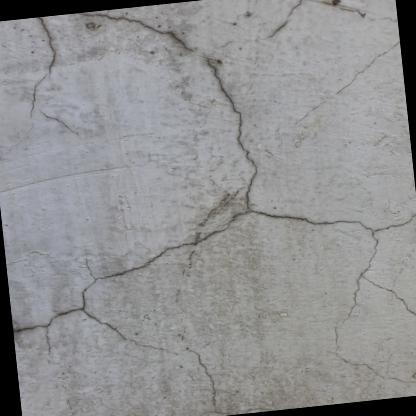crack: (12, 0, 416, 385), (290, 39, 398, 128), (25, 18, 58, 118), (185, 347, 220, 406), (36, 108, 80, 137)
